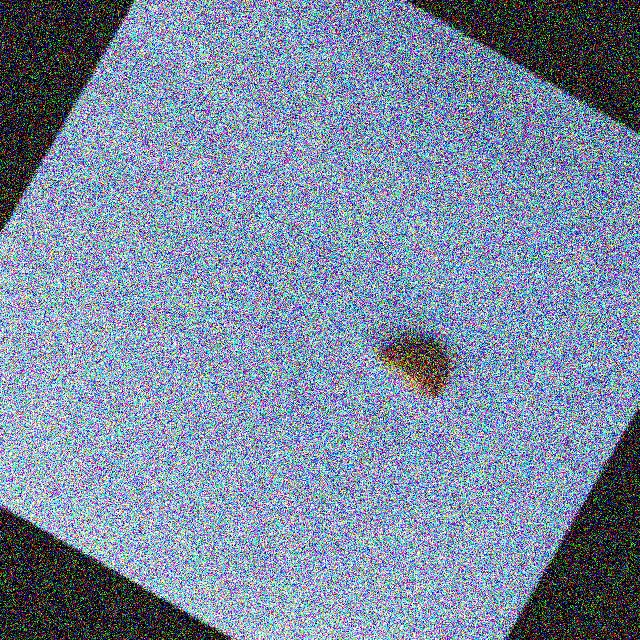grade4: (359, 312, 469, 412)
